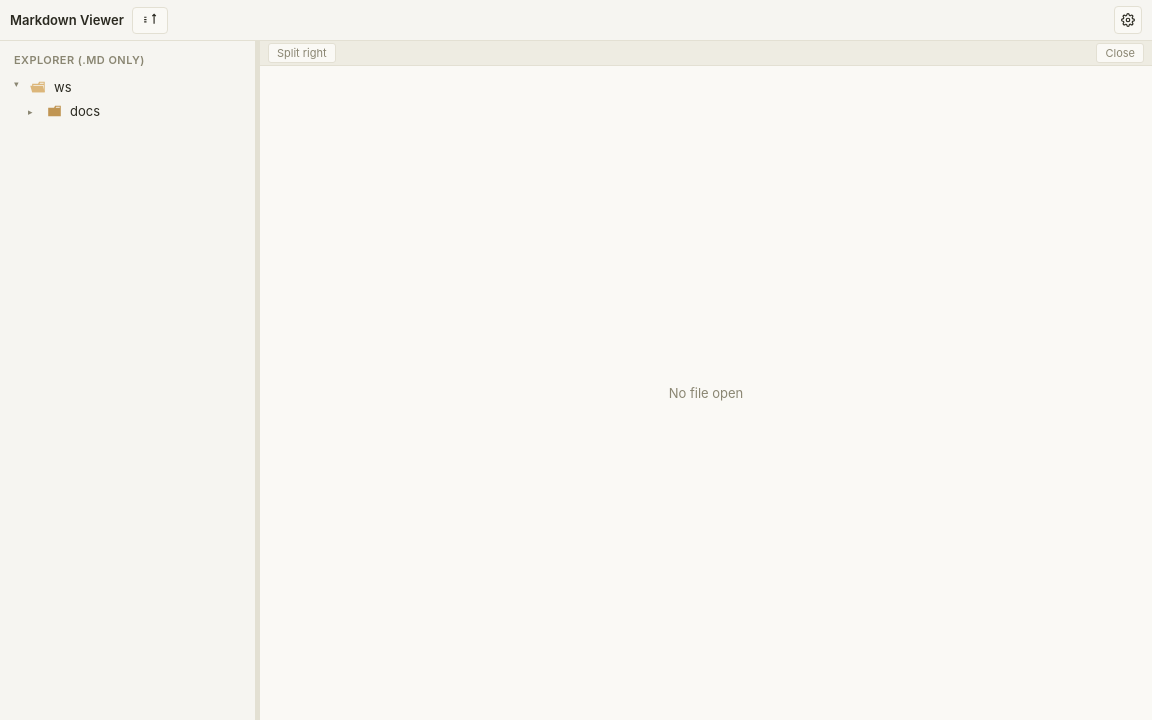
it: Sidebar tree persistence › collapses a folder when clicked when already open
Expected: the text "docs" is shown, [70,103,100,119]
# Expand docs folder
Click the text "docs" at (64, 111), box [28,103,100,119]
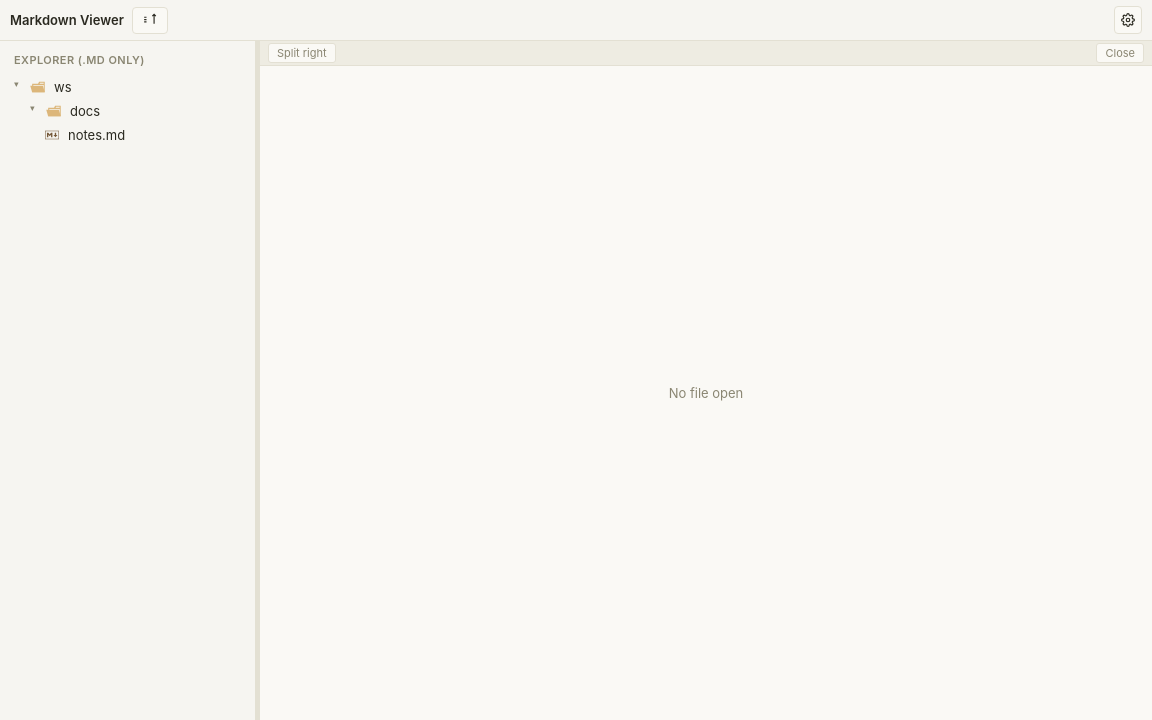
Result: the text "notes.md" is shown at [68,127,125,143]
# Click docs folder again to collapse it
Click the text "docs" at (64, 111), box [28,103,100,119]
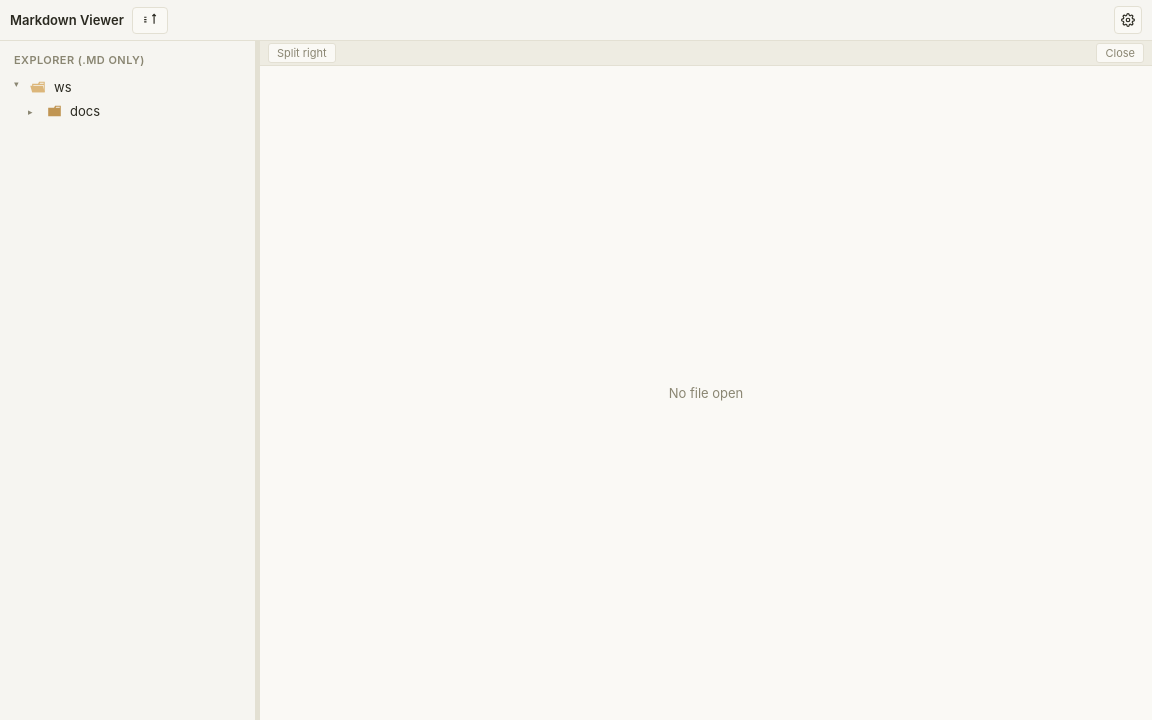
Result: the text "notes.md" is gone
